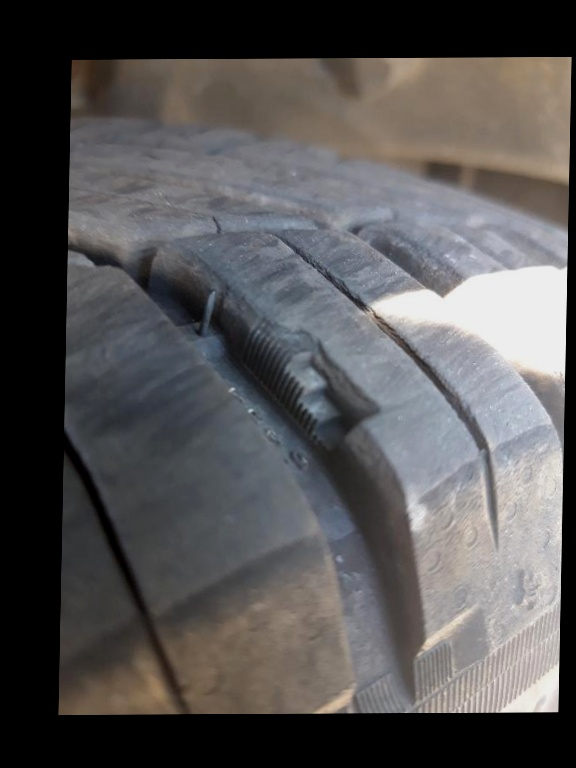temoin:80: (231, 310, 389, 467)
